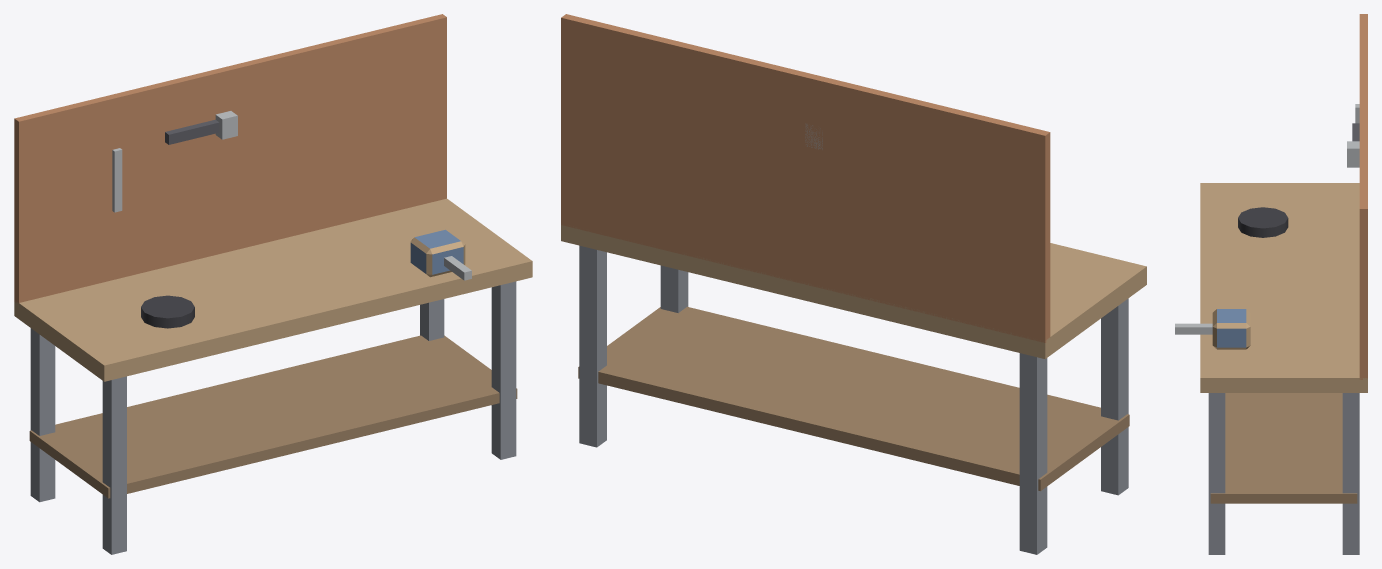
File: rs_workbench.glb
3 views of the same model, side by side, from view 1: azimuth 30°, elevation 25°; view 2: azimuth 150°, elevation 25°; view 3: azimuth 270°, elevation 25° (orthographic). The views are drawn at different scales.
Visible parts, largest first — view 1: rs_workbench; view 2: rs_workbench; view 3: rs_workbench.
Part boxes in pixels (box(x1,y1,x2,y2)): rs_workbench: box(14, 14, 532, 554); rs_workbench: box(561, 14, 1146, 554); rs_workbench: box(1175, 14, 1367, 554).
Bounding box in the file's own units: 2.2 × 1.85 × 0.92.
